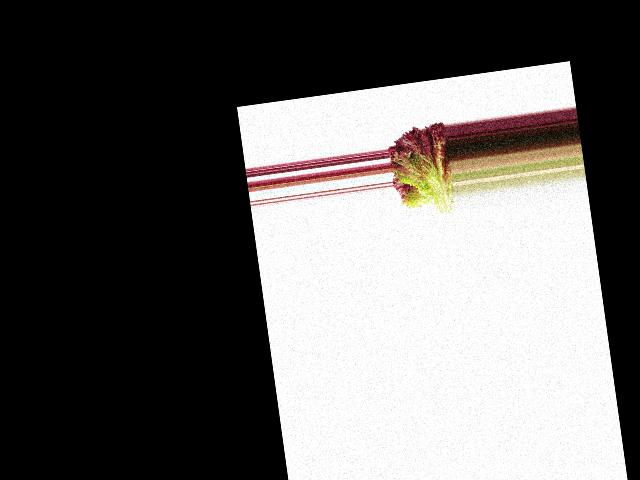lettuce: (386, 116, 457, 223)
